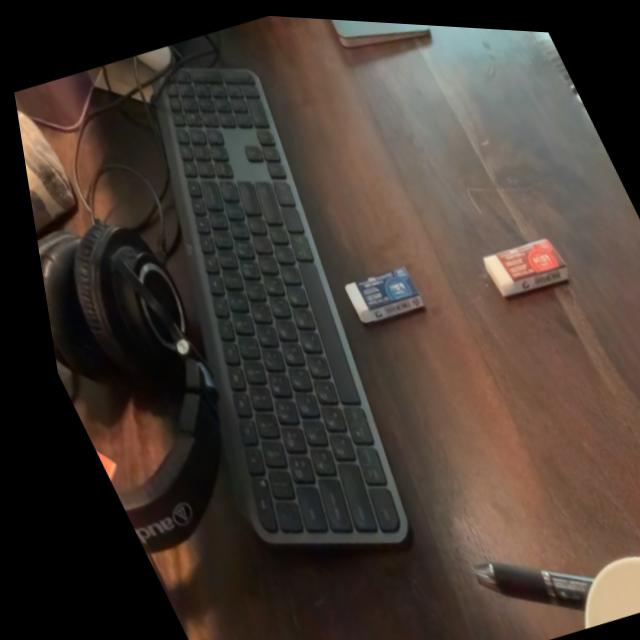blue: (319, 240, 435, 340)
red: (455, 202, 580, 315)
